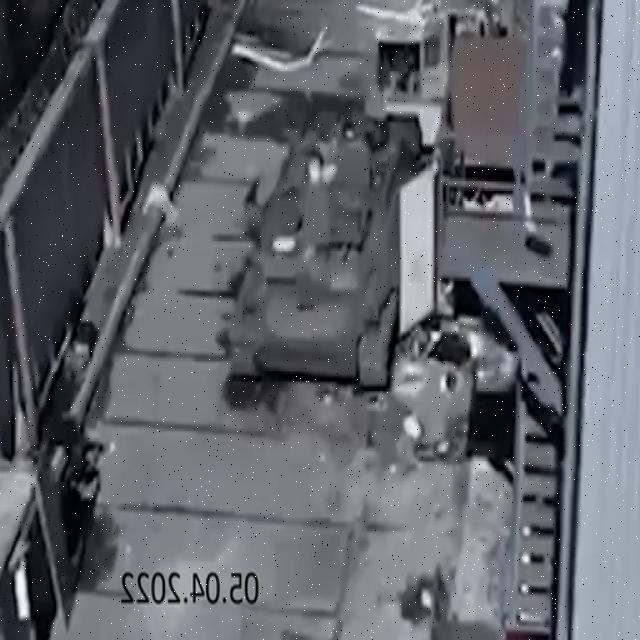APC-IFV: (223, 106, 415, 406)
